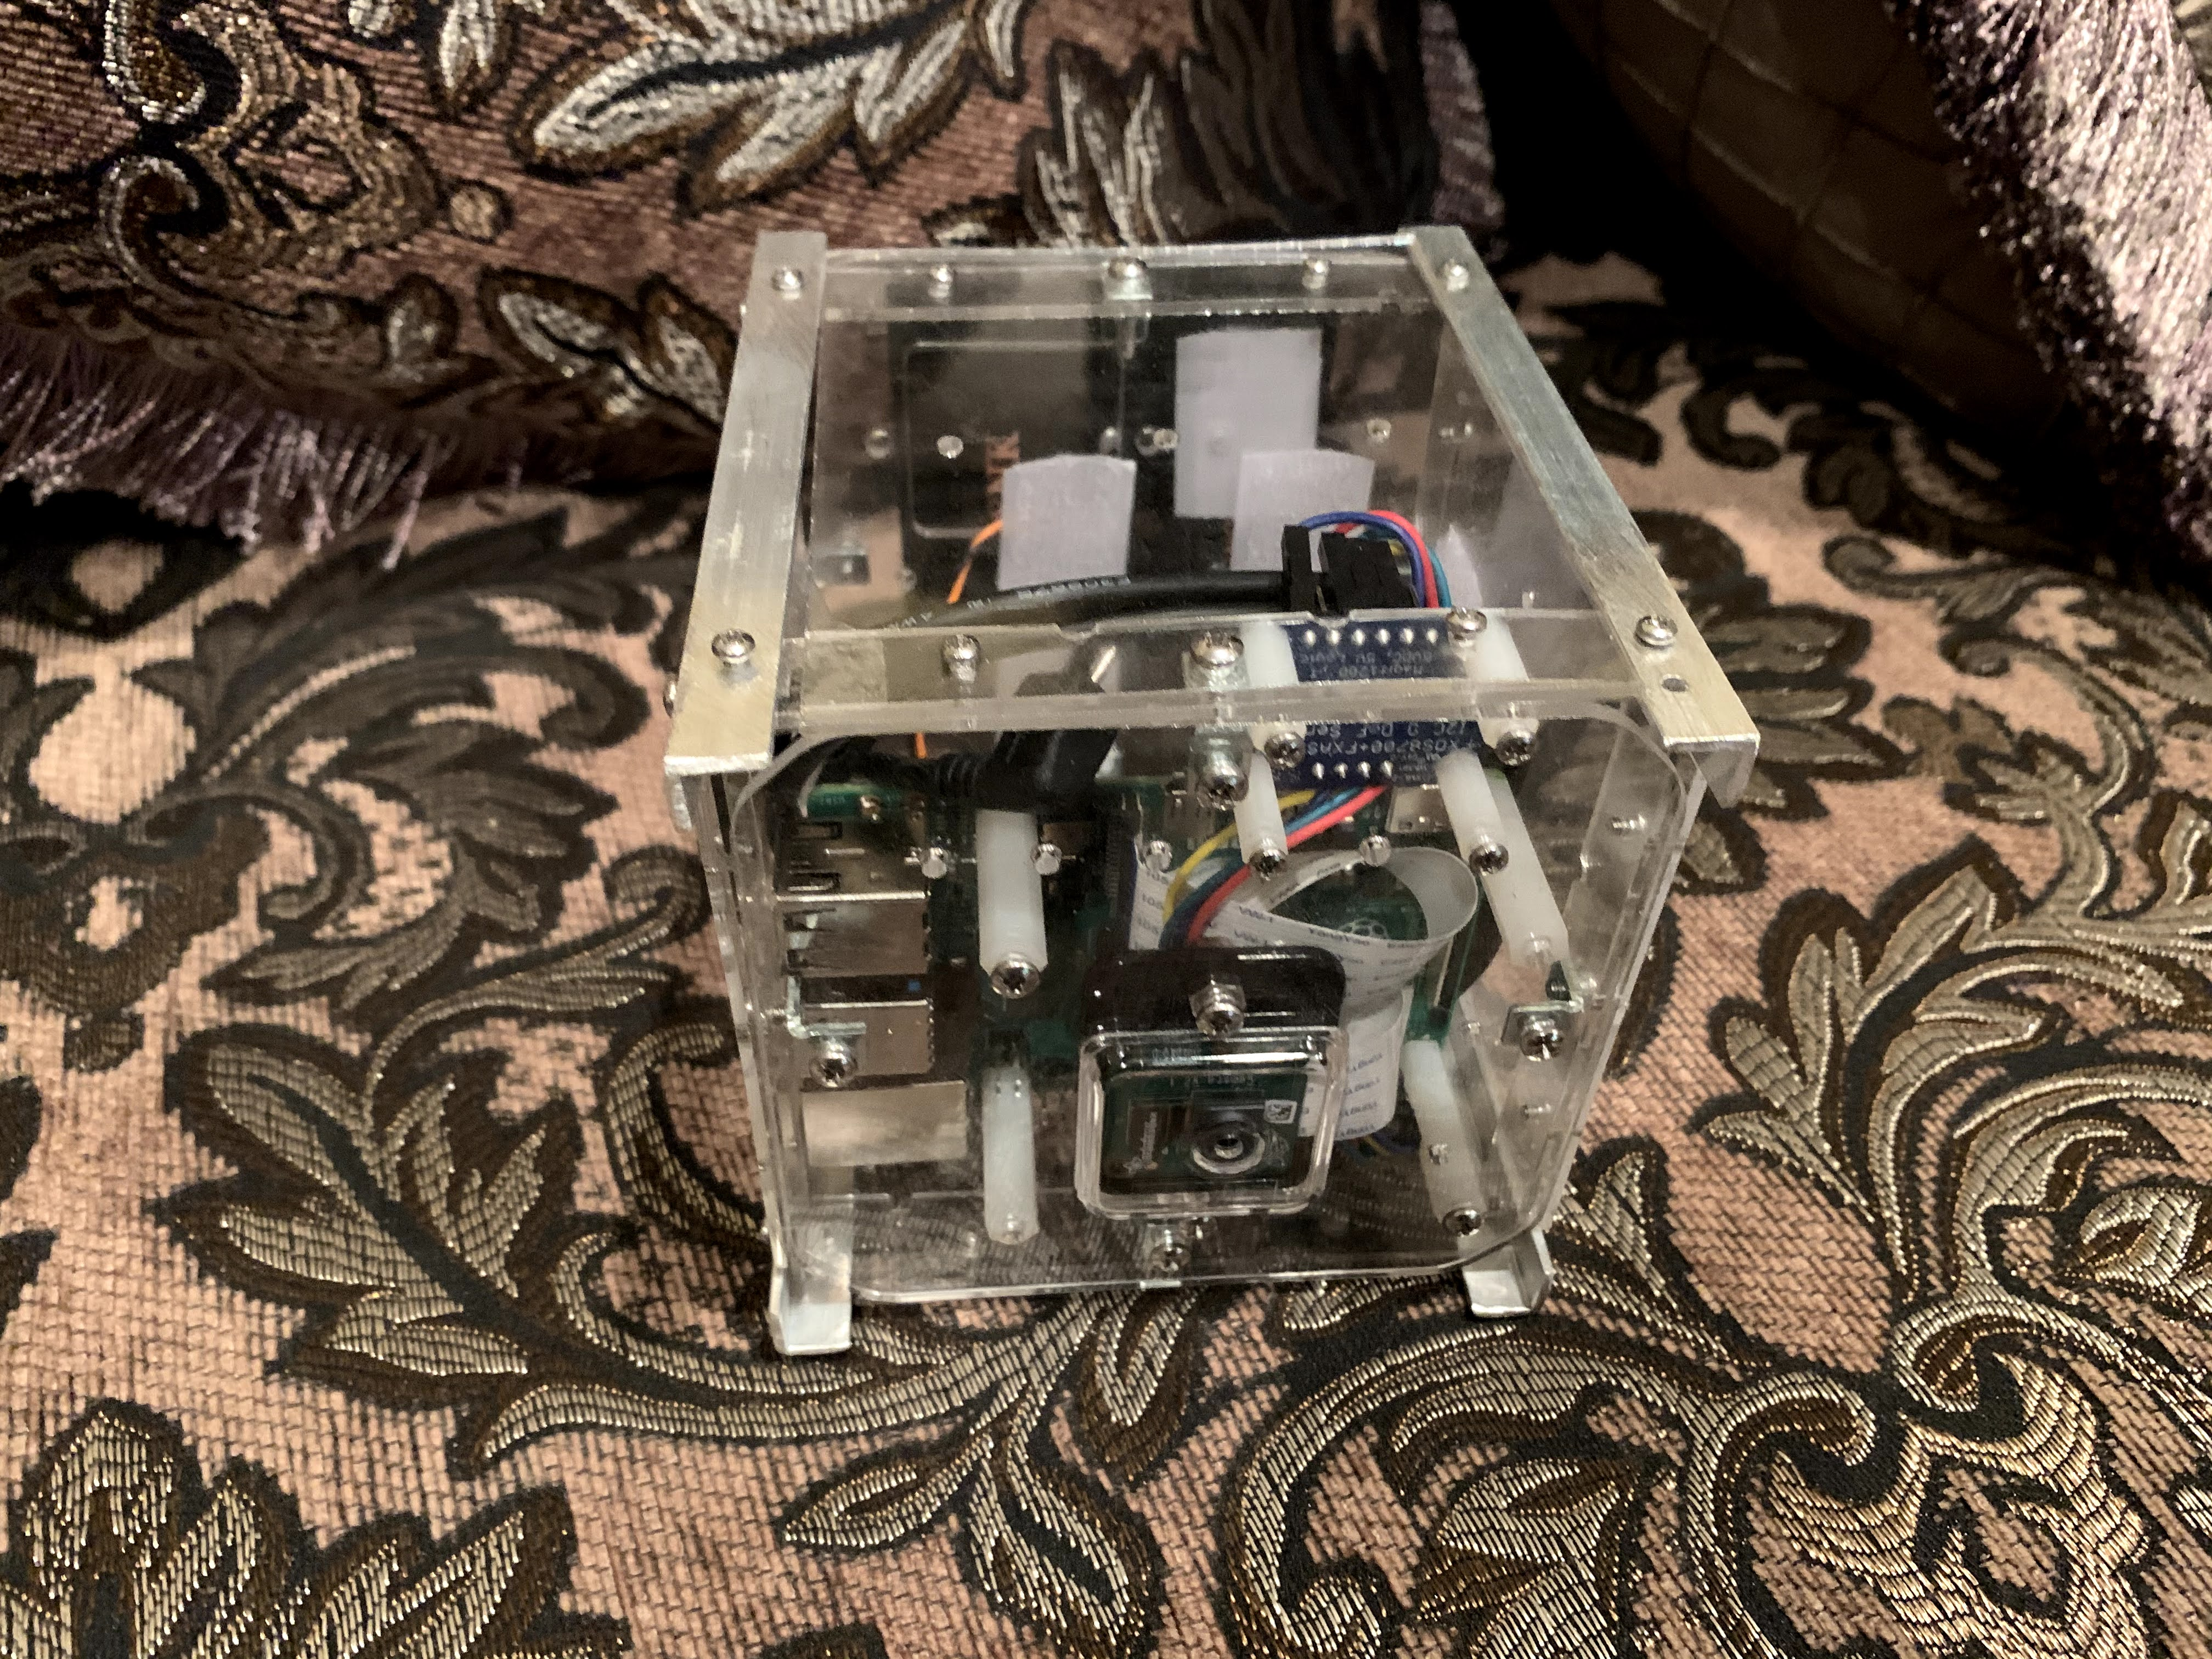Space-debris-cubesat: (644, 179, 1785, 1387)
